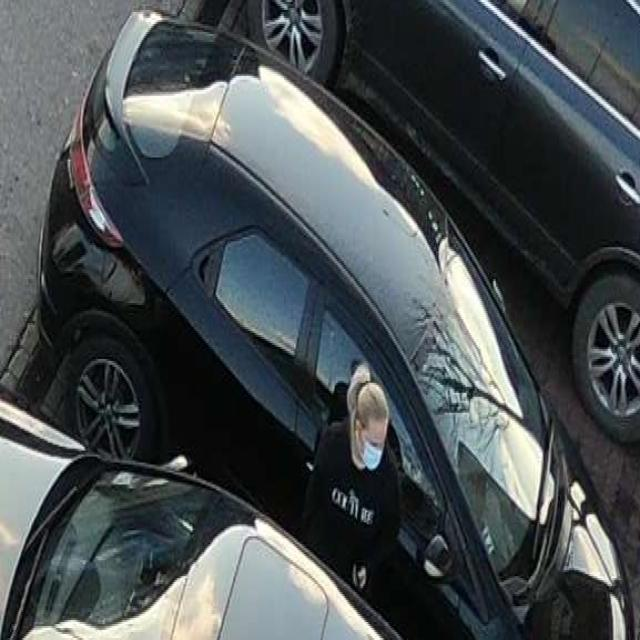Car: (99, 75, 536, 528)
